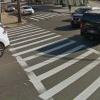Crosswalk: (11, 24, 82, 99)
